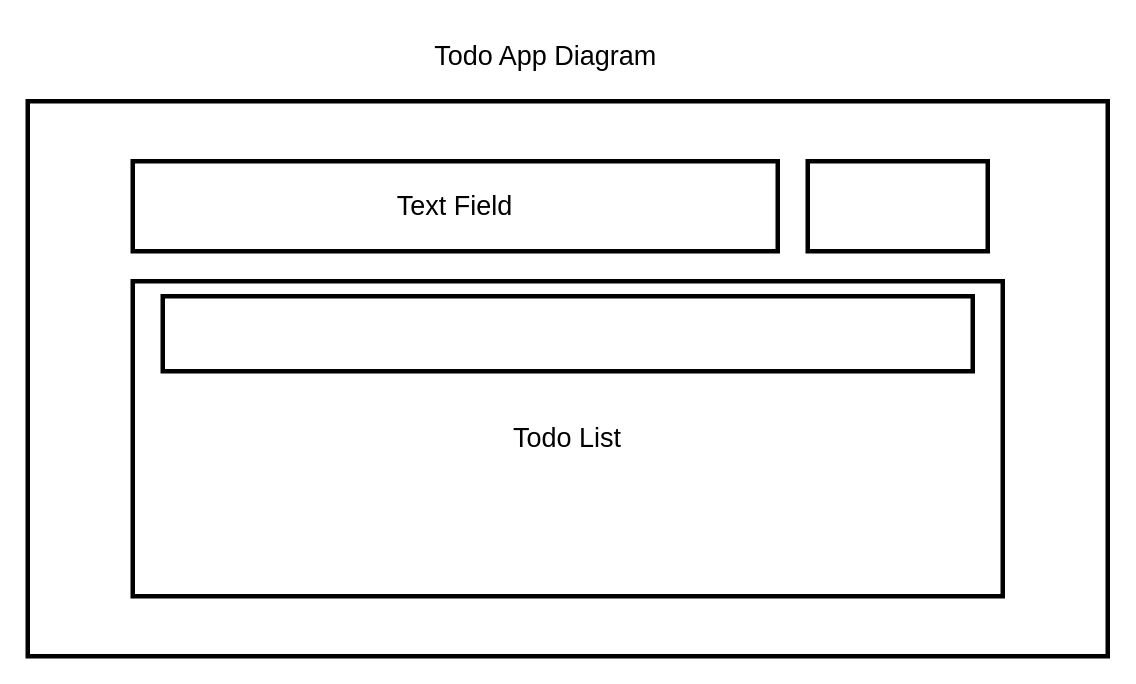
This 1136x684 diagram has some shape labels left out. Here are the shapes that lost their labels. From the top down, the centre of each, then its label:
At pixel 897 205: "Add Note".
At pixel 567 333: "Todo Item (draggable and clickable (Done or Delete))".
